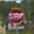stop: (7, 6, 25, 24)
